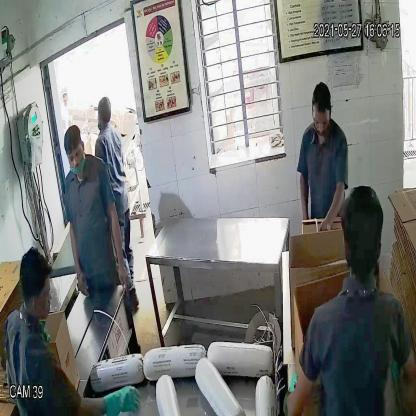no_goggles: (64, 145, 86, 168)
